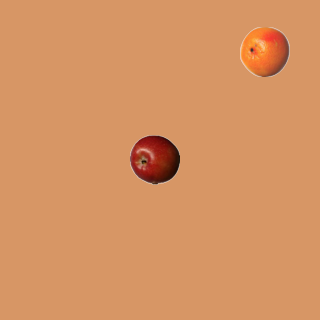Apple Braeburn: (129, 134, 179, 184)
Grapefruit Pink: (239, 26, 289, 76)
